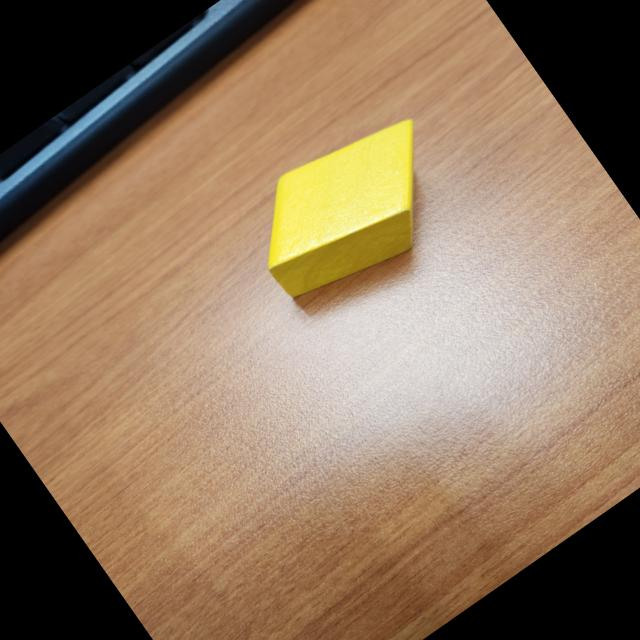yellow: (223, 93, 478, 330)
